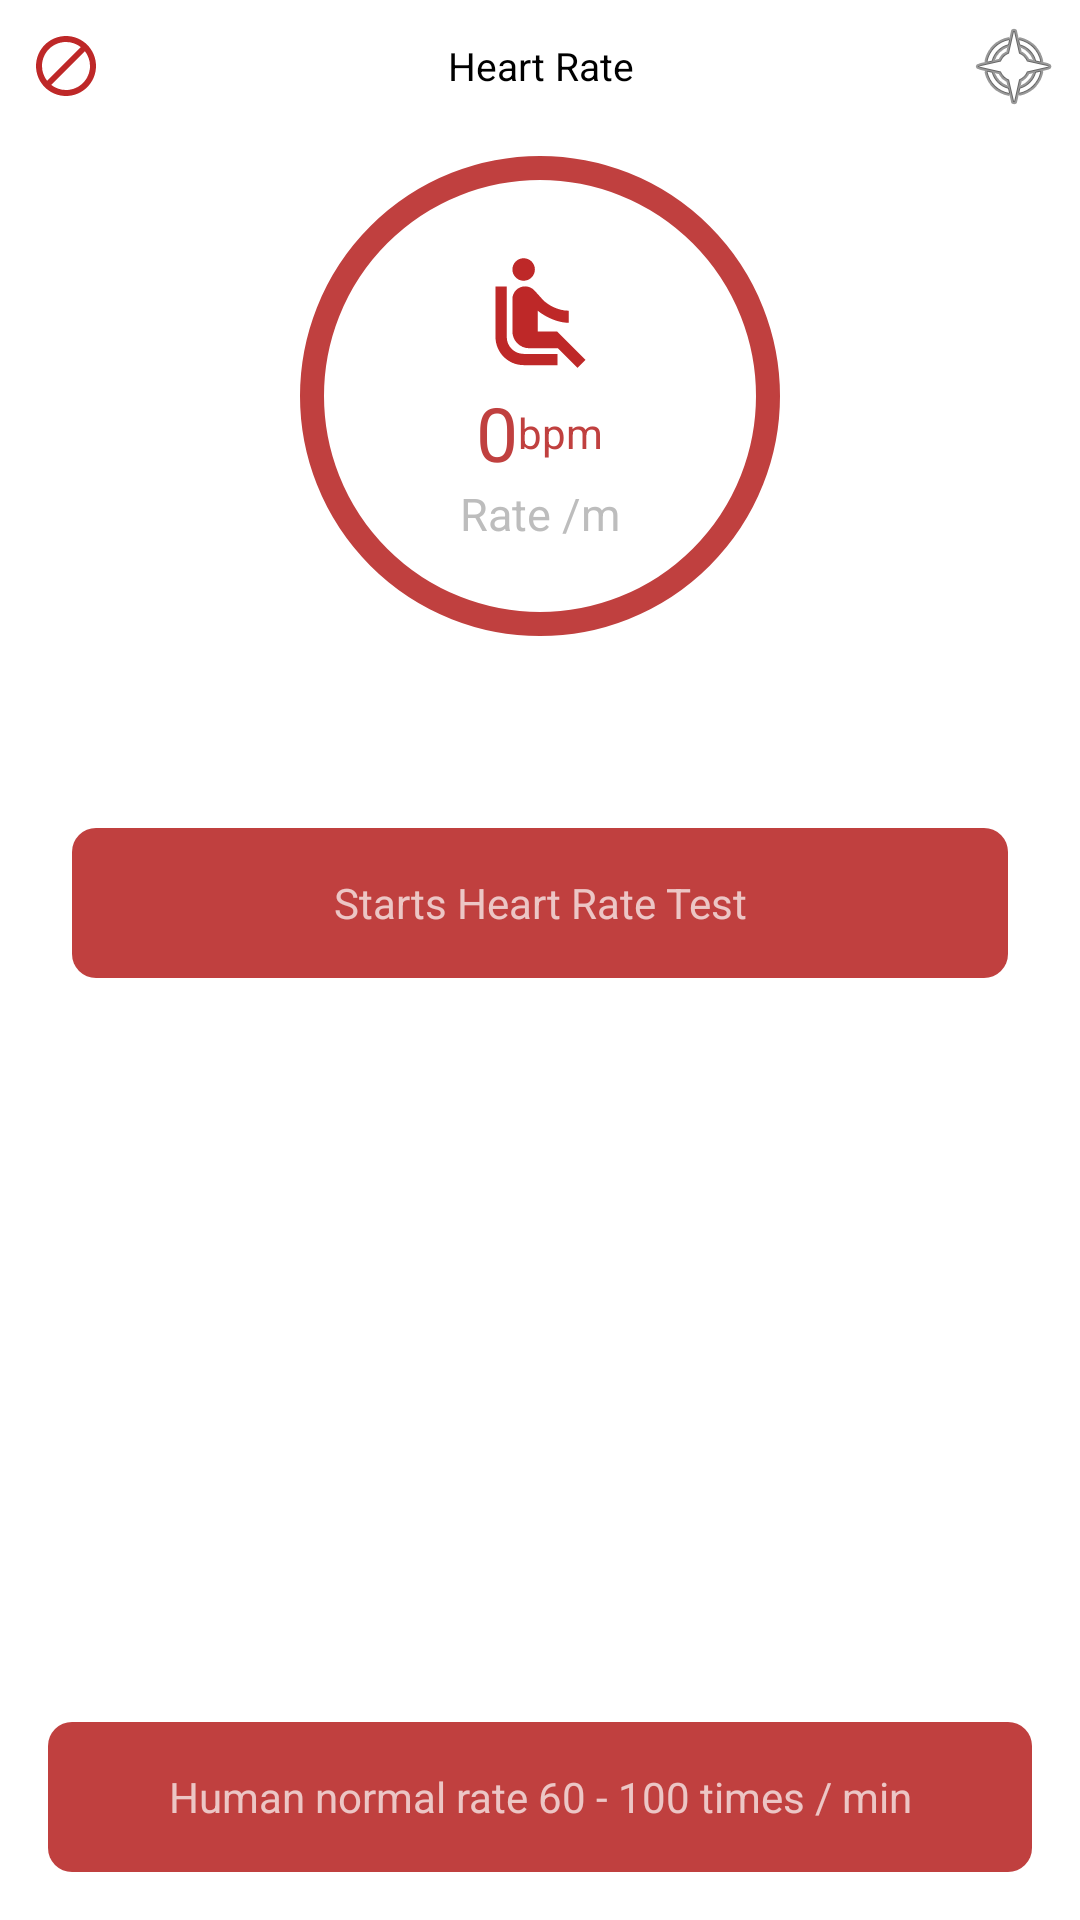

Named icons in this screenshot (1080w x 1920h) and their bounding boxes, bbox=[x1, y1, x2, y2]:
block: bbox=[36, 36, 96, 96]
compass: bbox=[976, 29, 1052, 104]
people: bbox=[495, 258, 586, 368]
